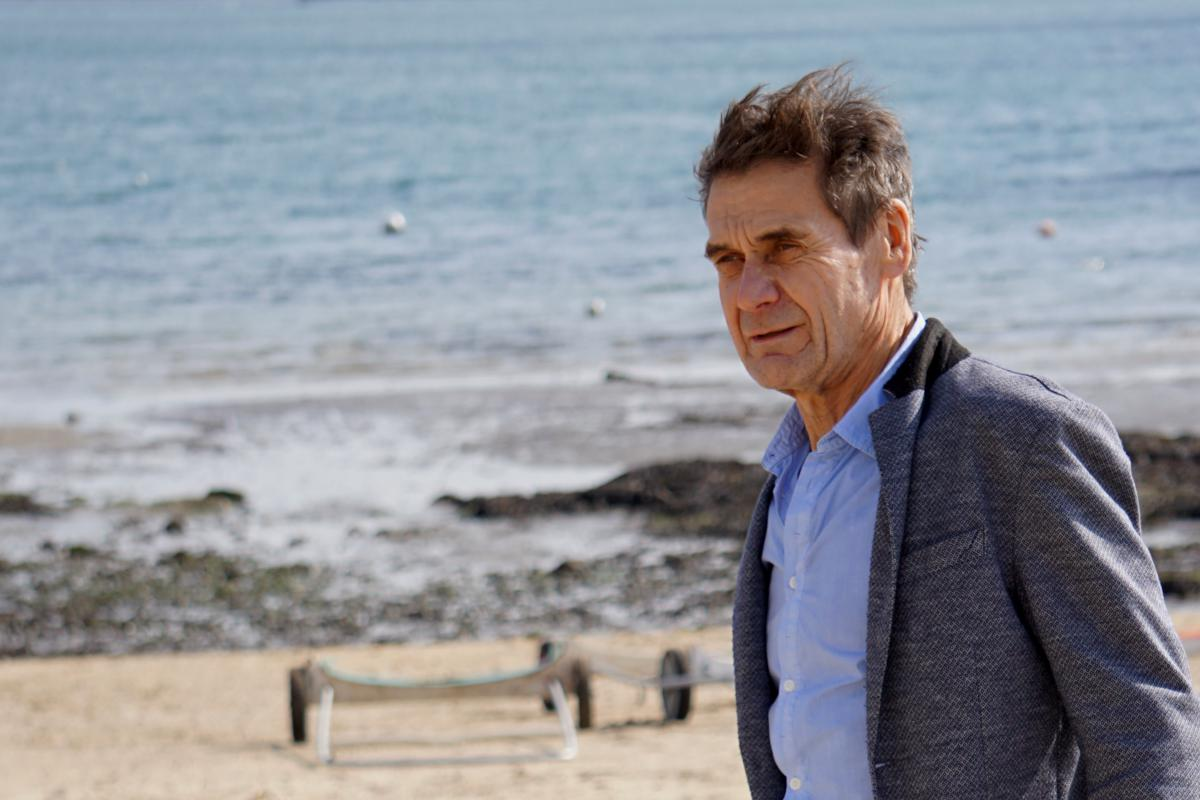Person: (692, 76, 1200, 795)
